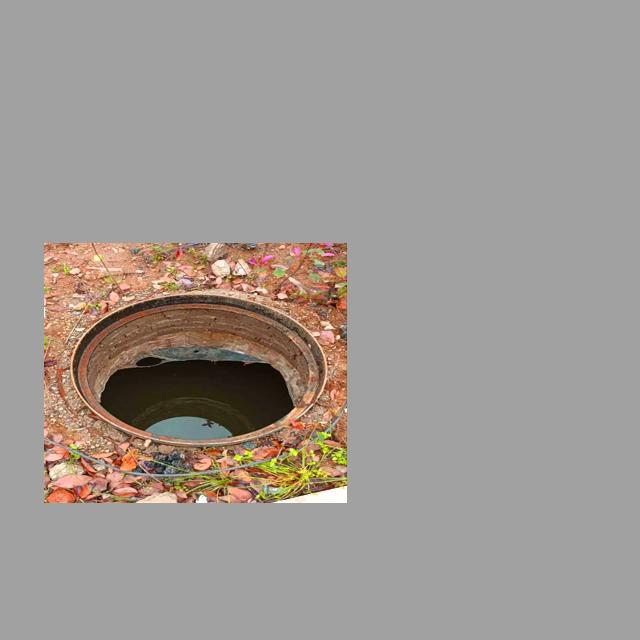lose: (67, 289, 329, 448)
